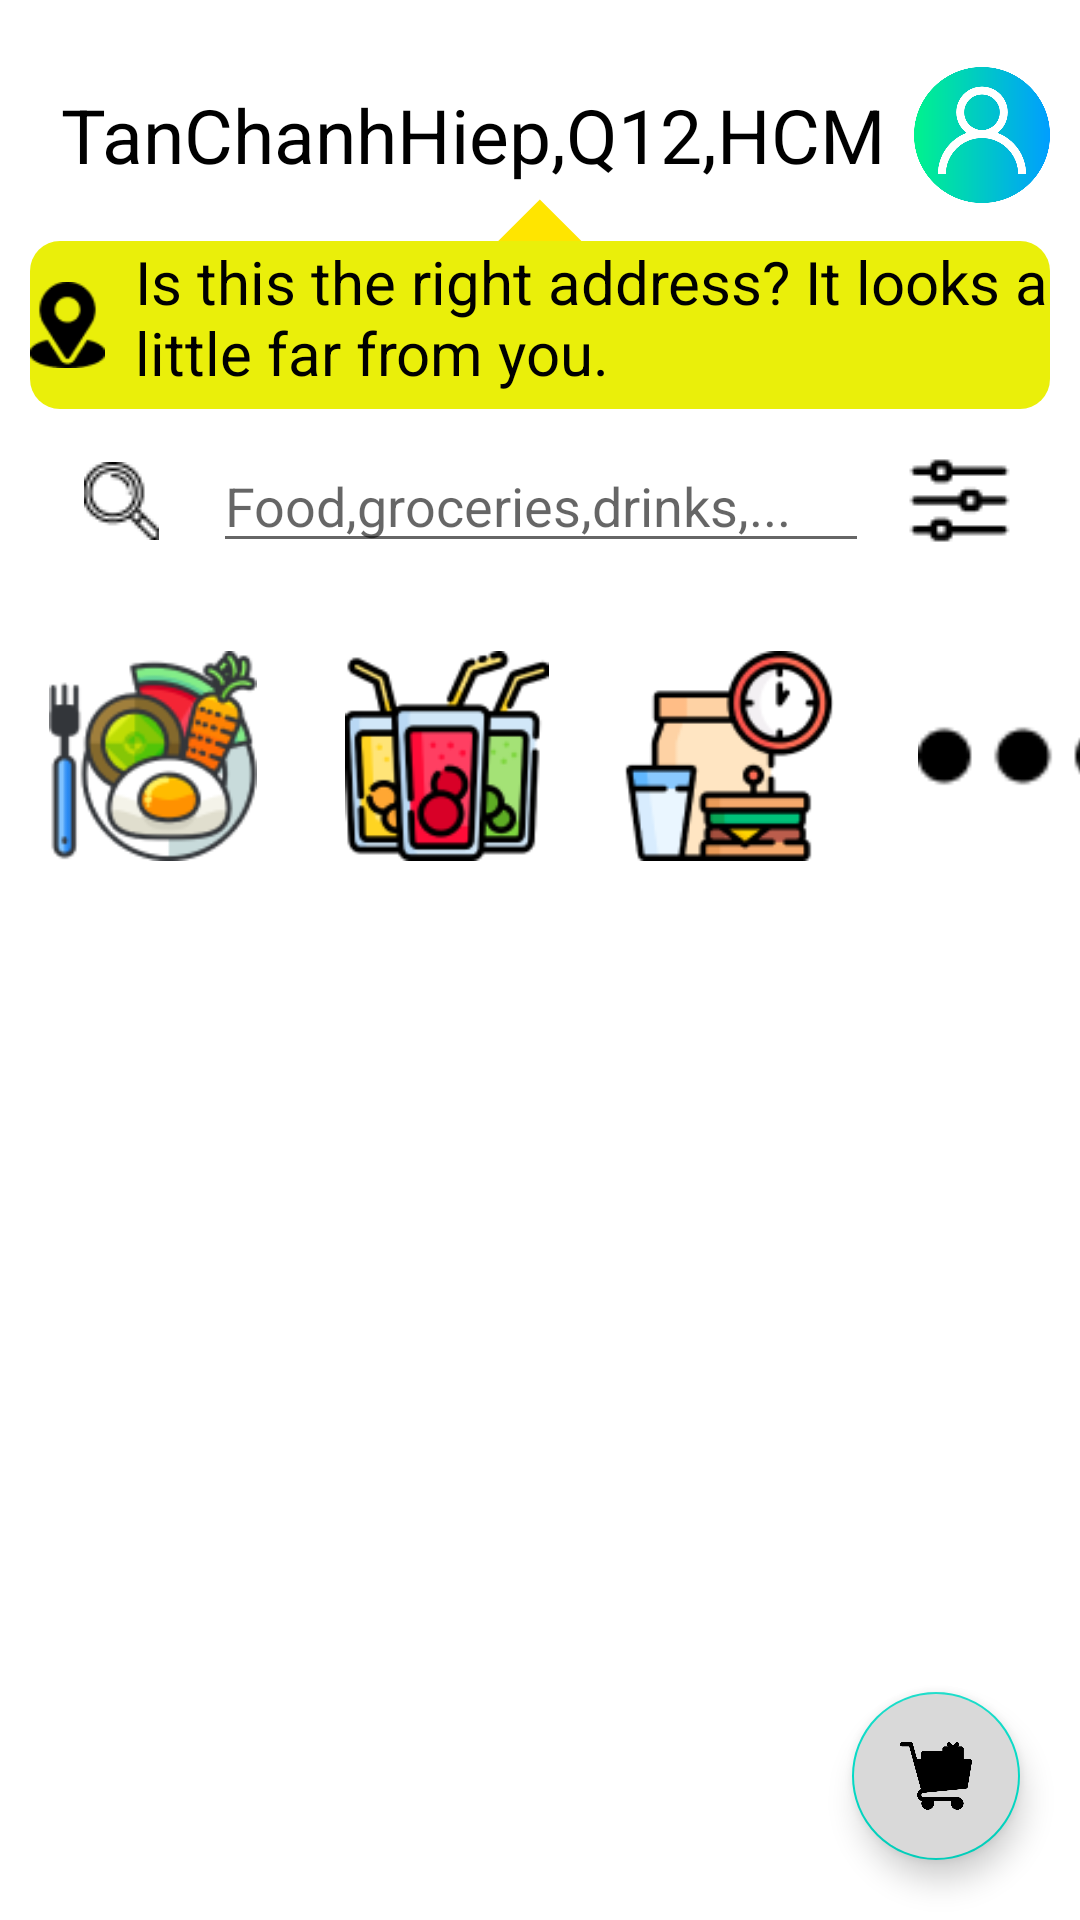

Named icons in this screenshot (1080w x 1920h) and their bounding boxes, region(x1, y1, x2, y2):
cart: region(852, 1692, 1020, 1860)
location: region(39, 282, 96, 359)
loupe: region(84, 462, 159, 540)
snacks: region(625, 651, 833, 861)
sort: region(909, 459, 1010, 542)
user: region(914, 67, 1050, 203)
